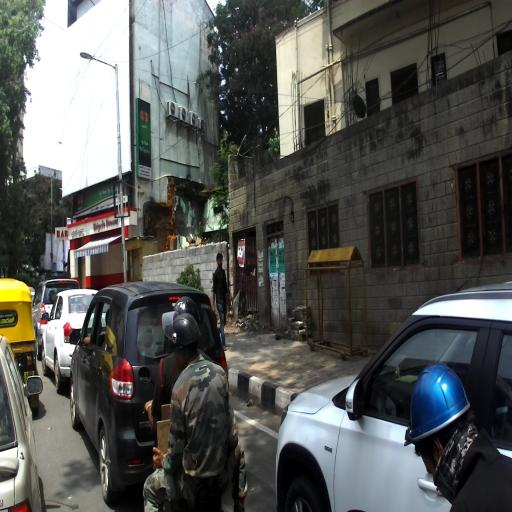street_light_0: (80, 50, 118, 72)
